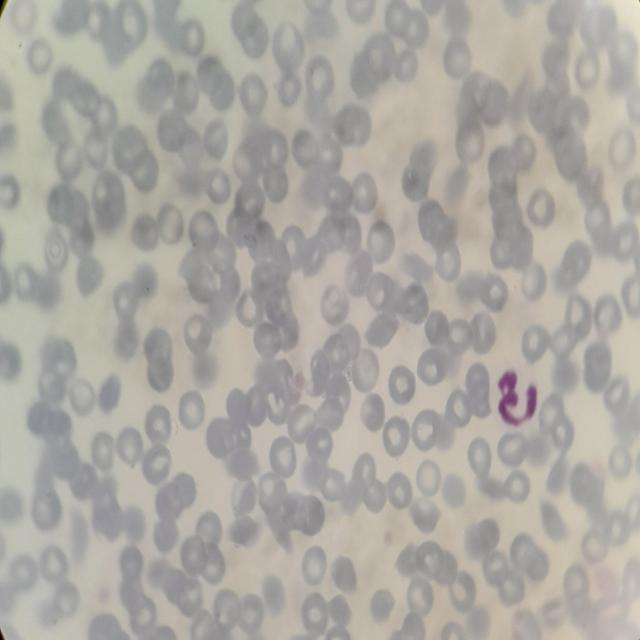Neutrofilo: (497, 365, 540, 427)
